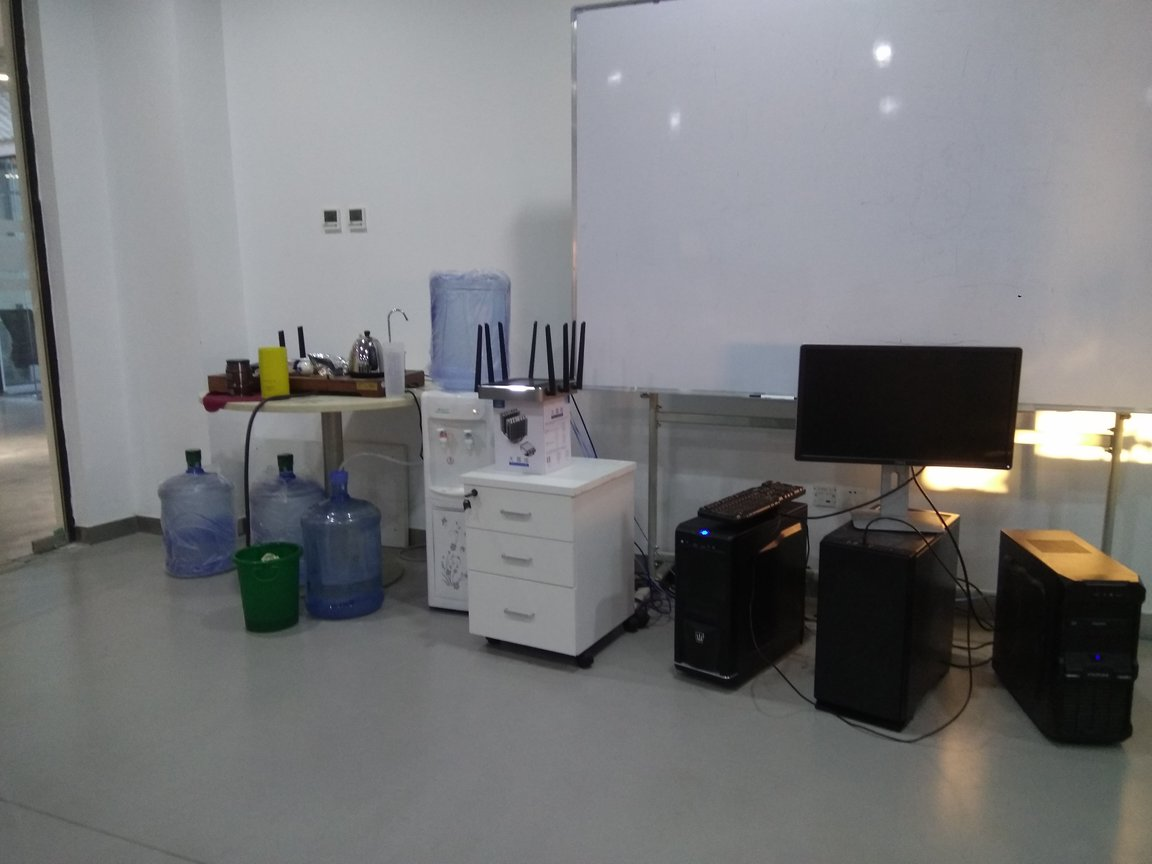computer: (820, 503, 963, 740), (994, 525, 1140, 756), (674, 493, 816, 708)
drawer chest: (463, 456, 638, 668)
monitor: (802, 339, 1024, 535)
scuttlebutt: (256, 446, 336, 614), (304, 453, 383, 616), (420, 262, 508, 400), (163, 451, 250, 590)
water dispenser: (414, 385, 530, 622)
